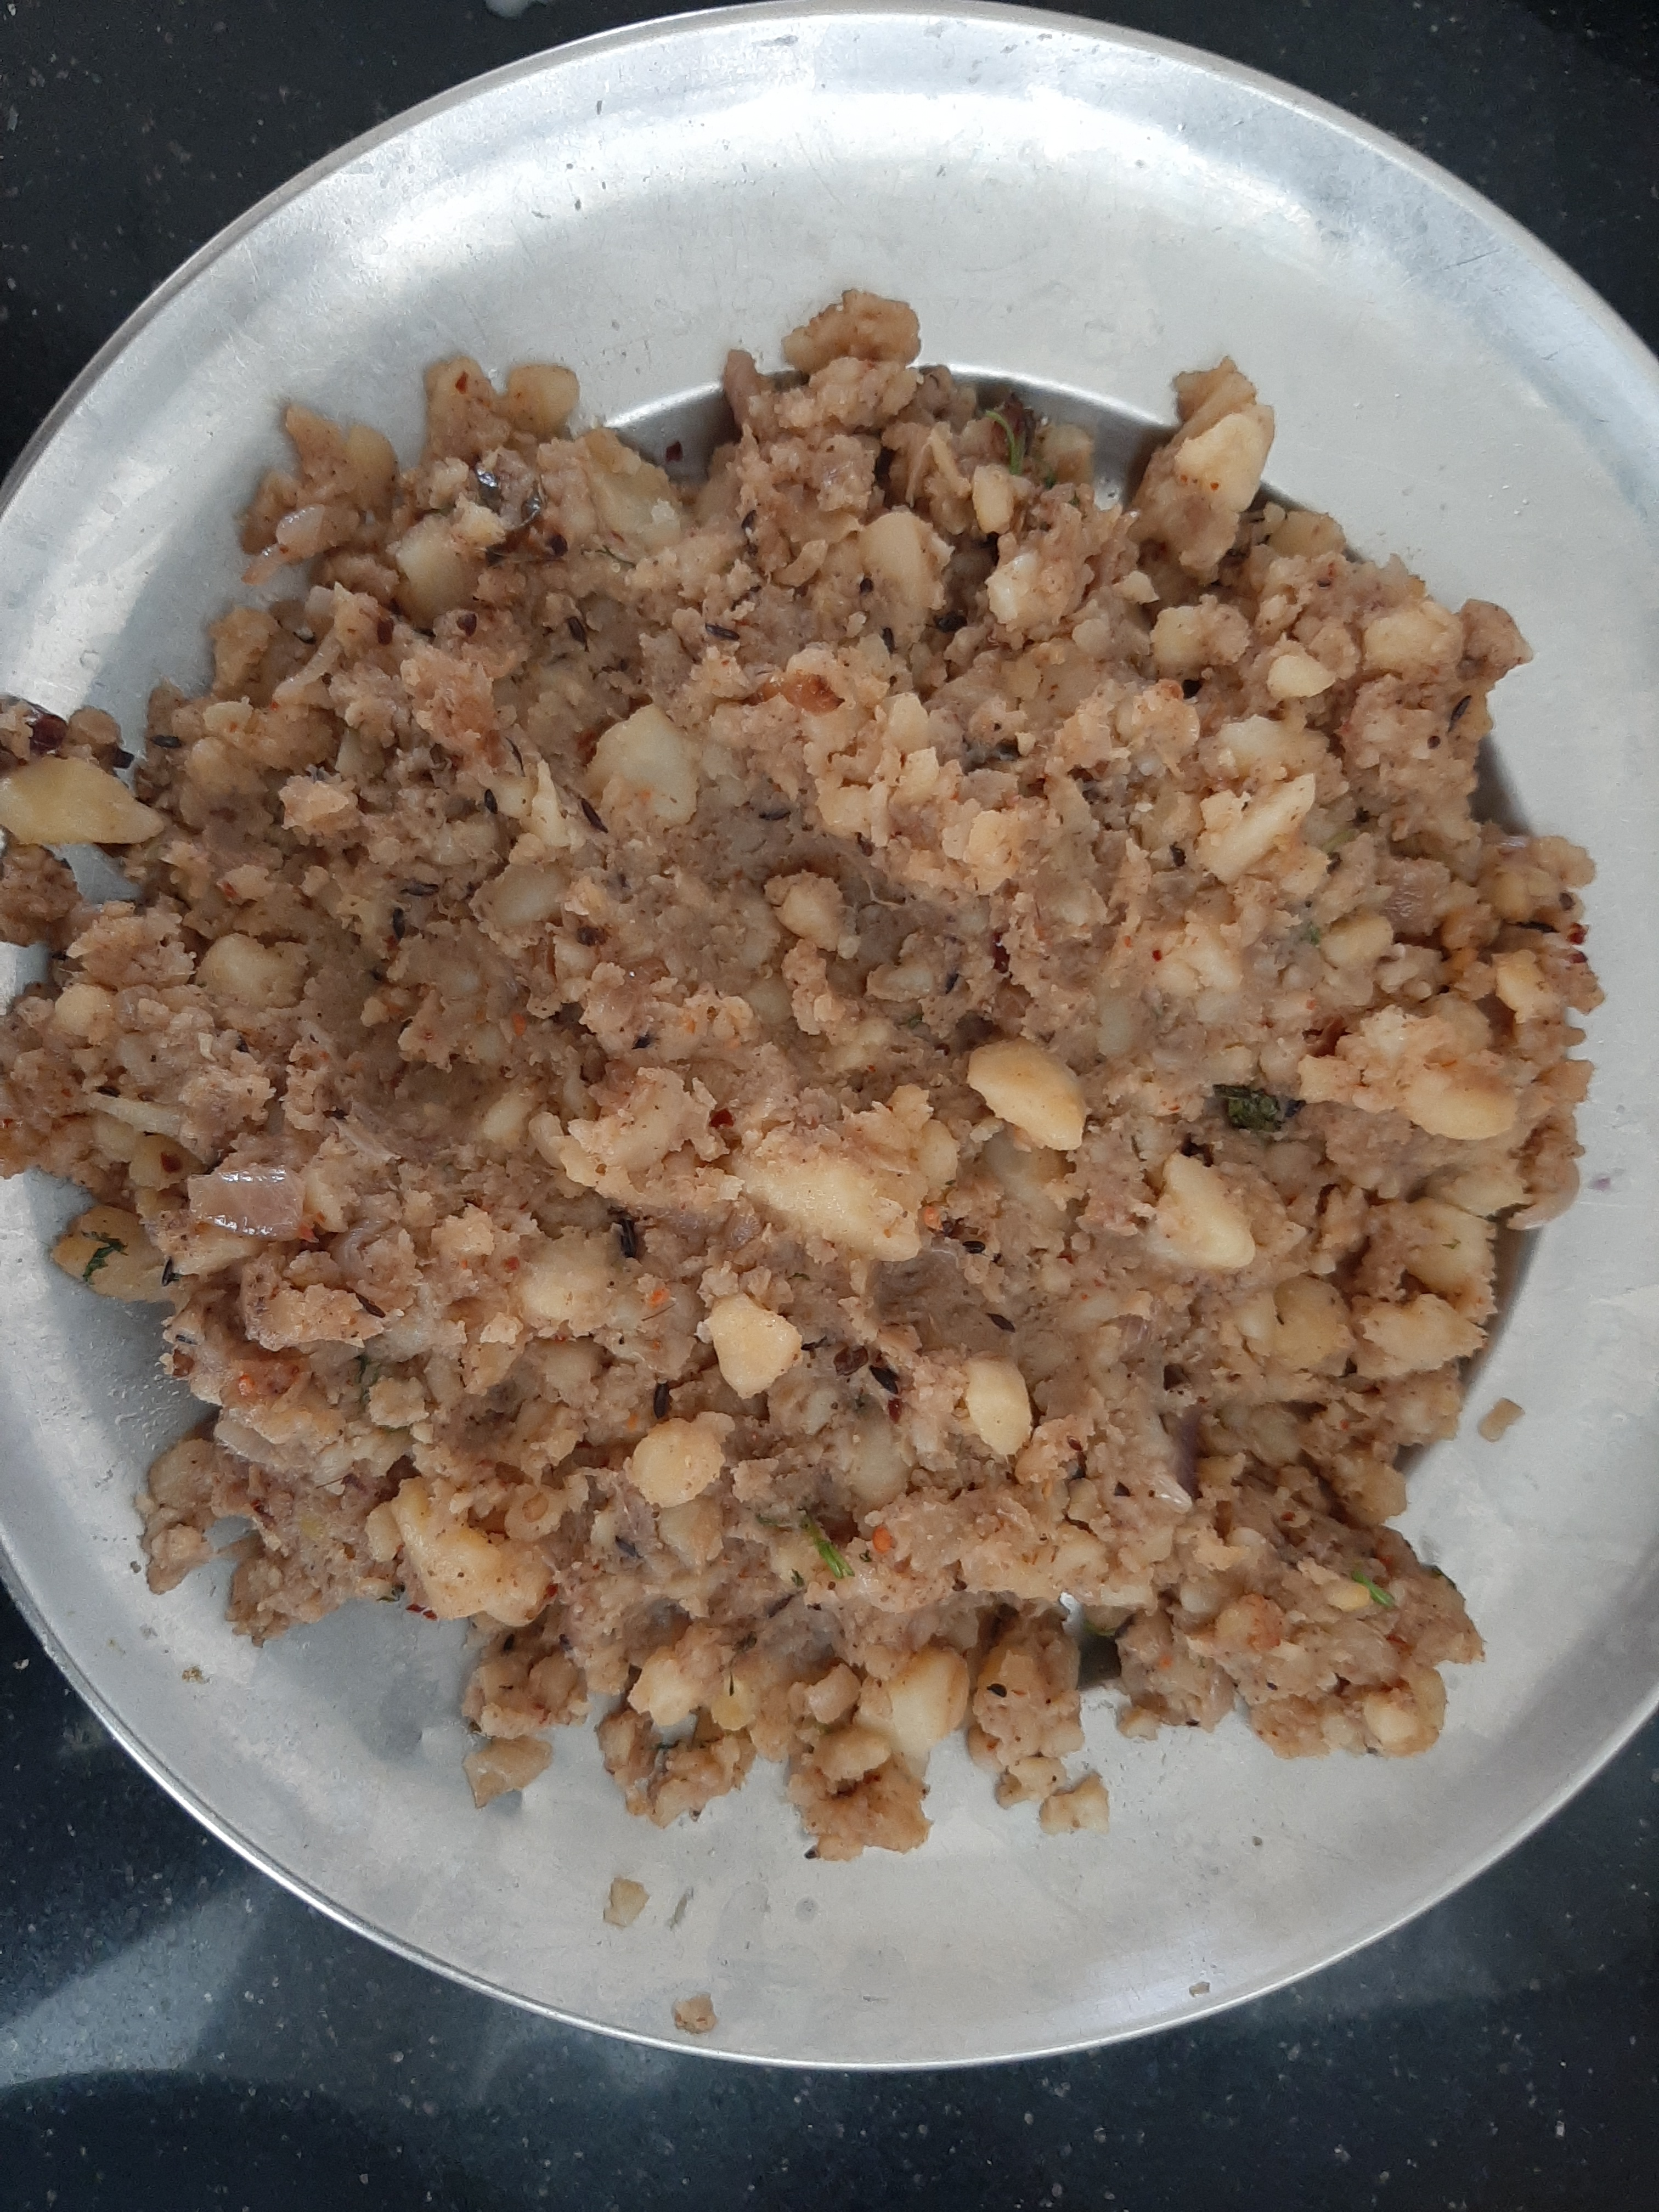food: (0, 279, 1617, 2045)
